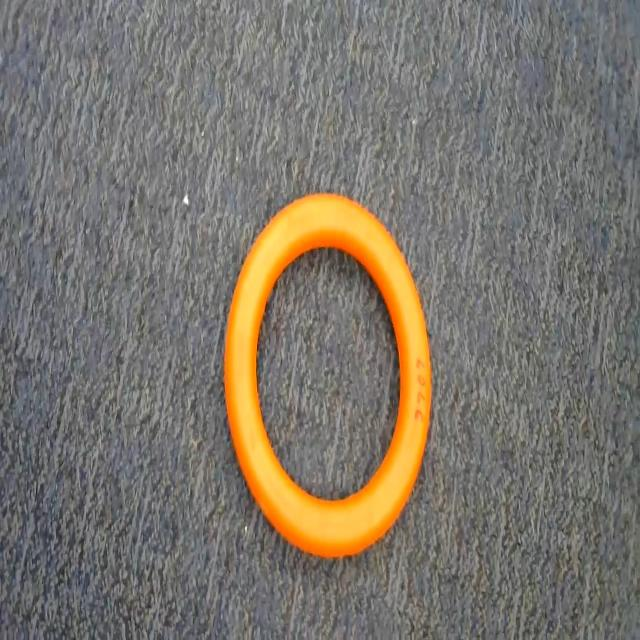note: (206, 160, 466, 582)
